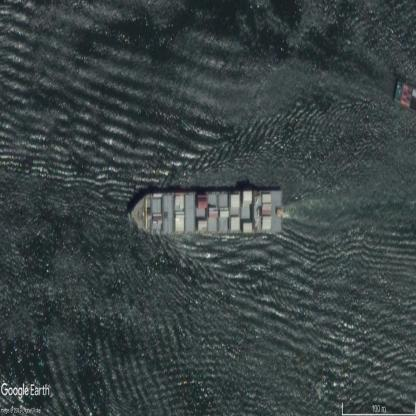ship: (130, 189, 284, 233)
